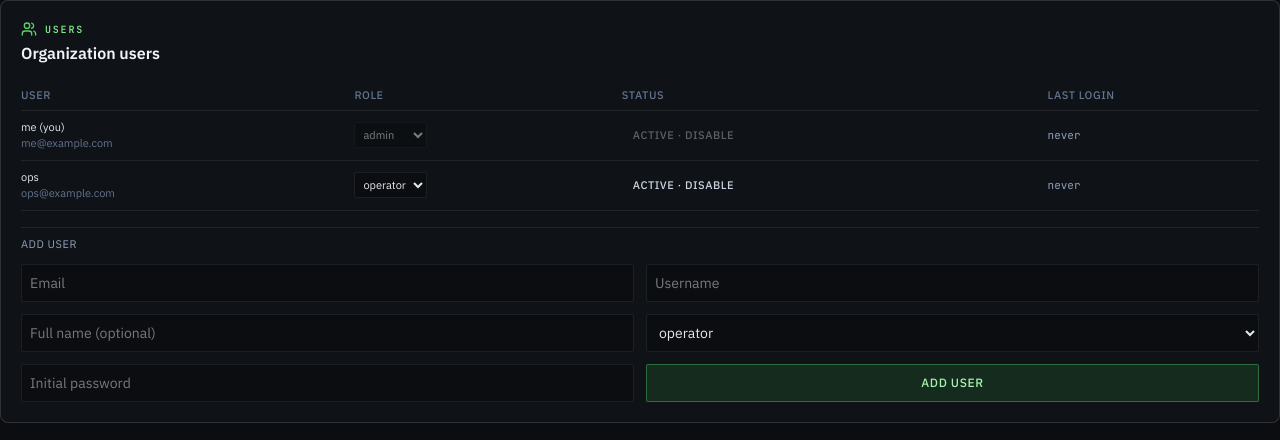
Test: UsersPanel › disables another user
Click the button "Active · disable" in the row of "ops@example.com".
click(683, 185)  # box [622,172,745,198]
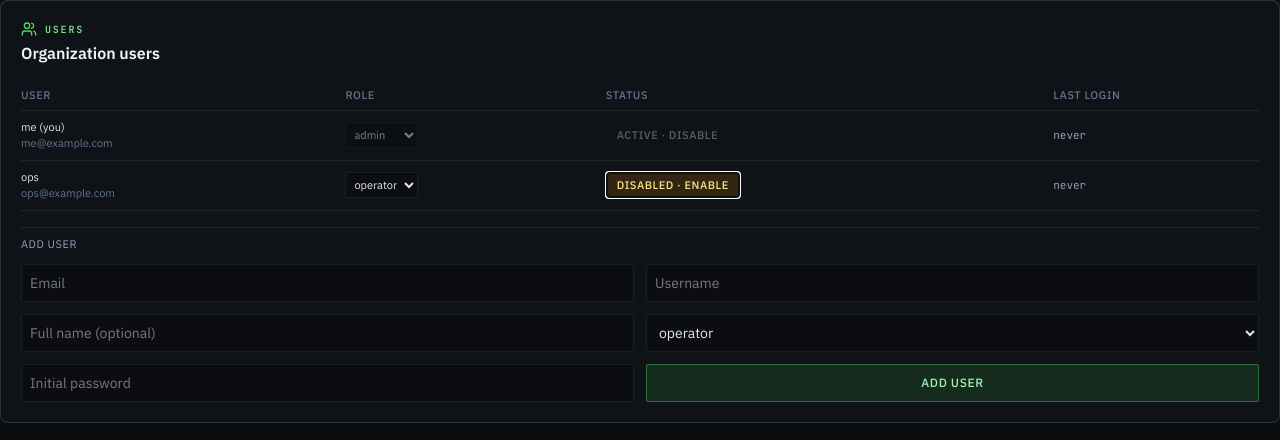
Result: the button "Disabled · enable" is shown at [606,172,740,198]
